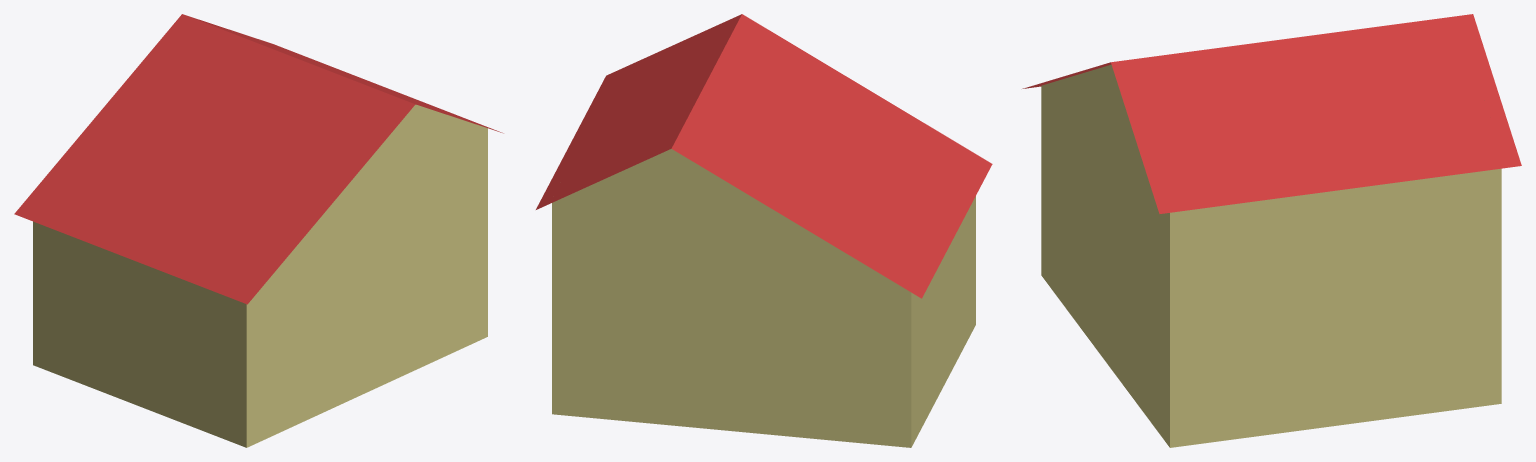
3 views of the same model, side by side, from view 1: azimuth 30°, elevation 25°; view 2: azimuth 150°, elevation 25°; view 3: azimuth 270°, elevation 25° (orthographic). The views are drawn at different scales.
Size of the model in its own units: 17.22 by 15.59 by 11.29.
